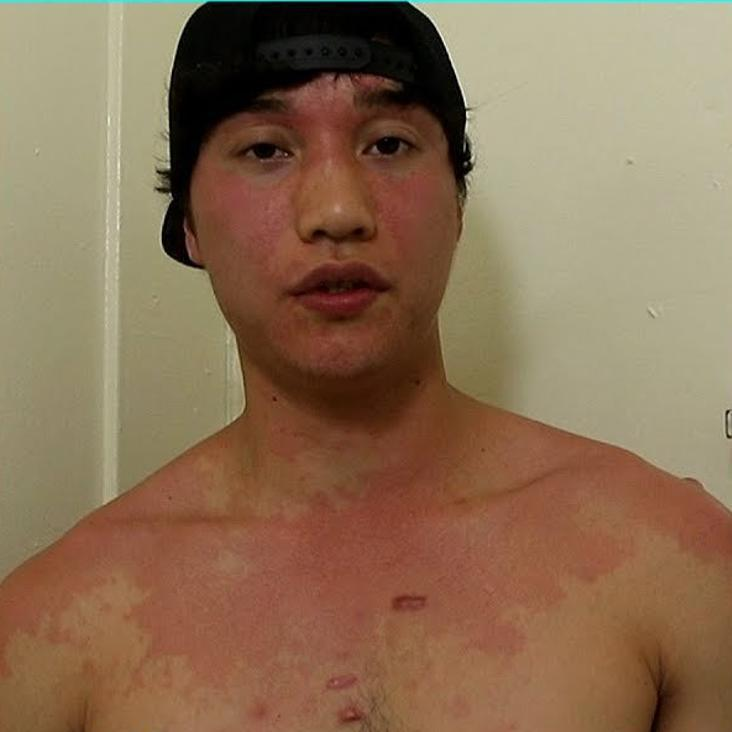Drunk: (202, 79, 451, 371)
